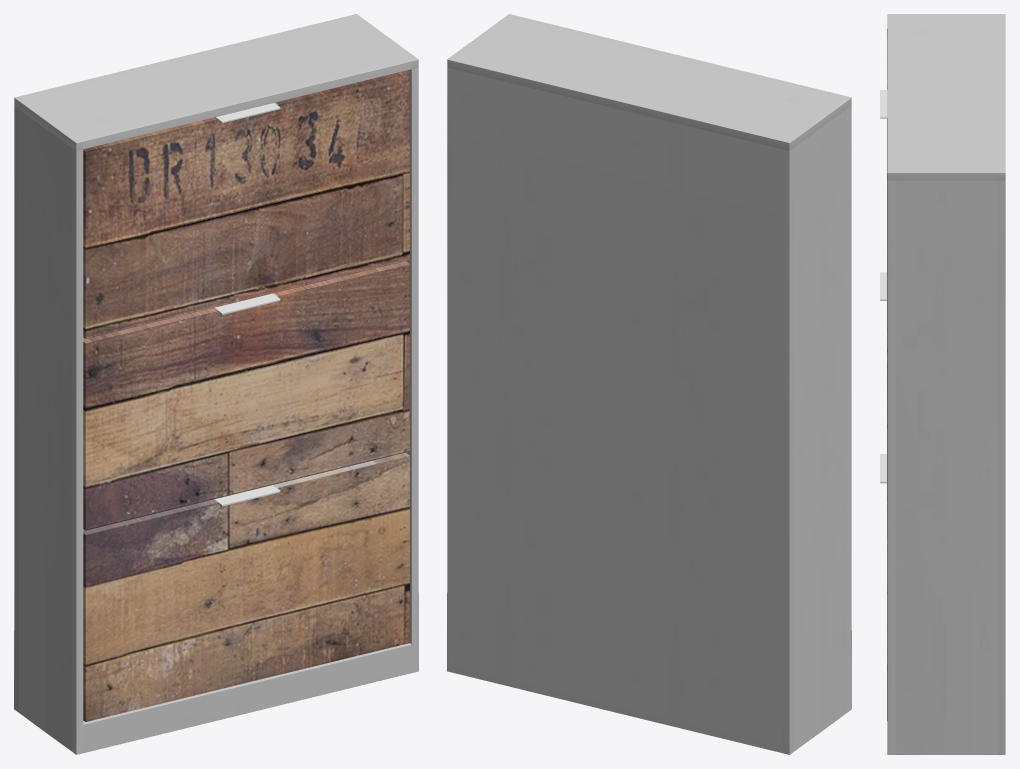
The model's file is abo-B07GFS1WH7.glb.
3 renders of one model, left to right at view 1: azimuth 30°, elevation 25°; view 2: azimuth 150°, elevation 25°; view 3: azimuth 270°, elevation 25°, orthographic. The views are drawn at different scales.
Size of the model in its own units: 0.75 by 1.28 by 0.25.
Materials: 1 (1 with a texture image).
